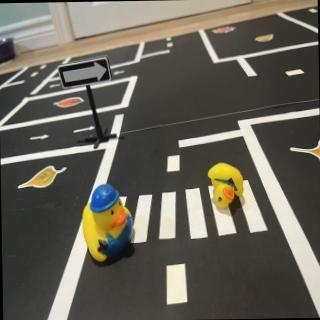duck_regular: (209, 161, 246, 213)
duck_specialty: (81, 184, 135, 263)
road_crosswalk: (120, 179, 273, 248)
road_oneway: (27, 135, 53, 144), (113, 65, 129, 79), (74, 125, 98, 134), (48, 83, 63, 91)
sign_oneway_right: (59, 55, 115, 91)
